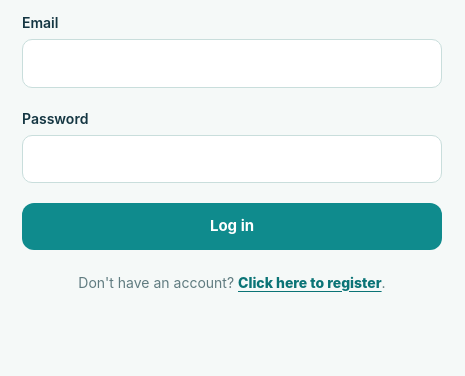
Scenario: Login — generic credential error › shows a user-safe credential message
Type "observer@example.org" into the field labelled "Email" at (232, 63), box [22,39,442,88]
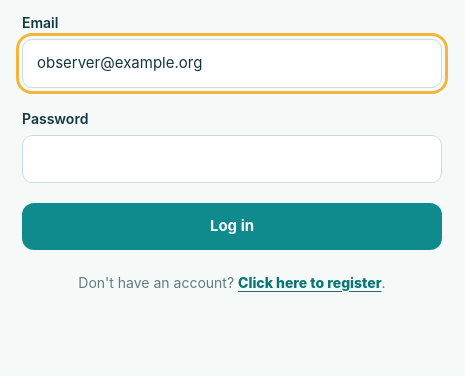
Type "wrong-password" into the password field labelled "Password" at (232, 159), box [22,134,442,183]
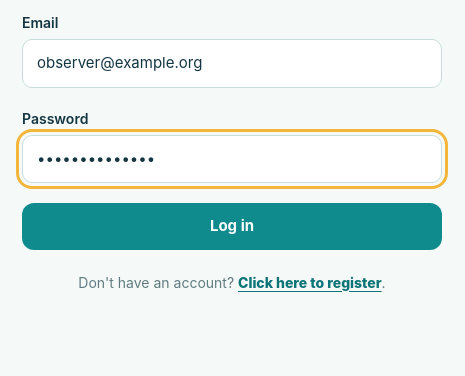
Click the button "Log in" at (232, 226), box [22,203,442,250]
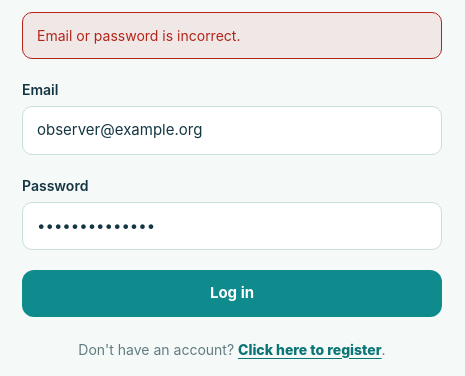
Result: the message reads "Email or password is incorrect." at [37,27,240,44]
